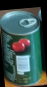tomatoes: (1, 11, 42, 86)
